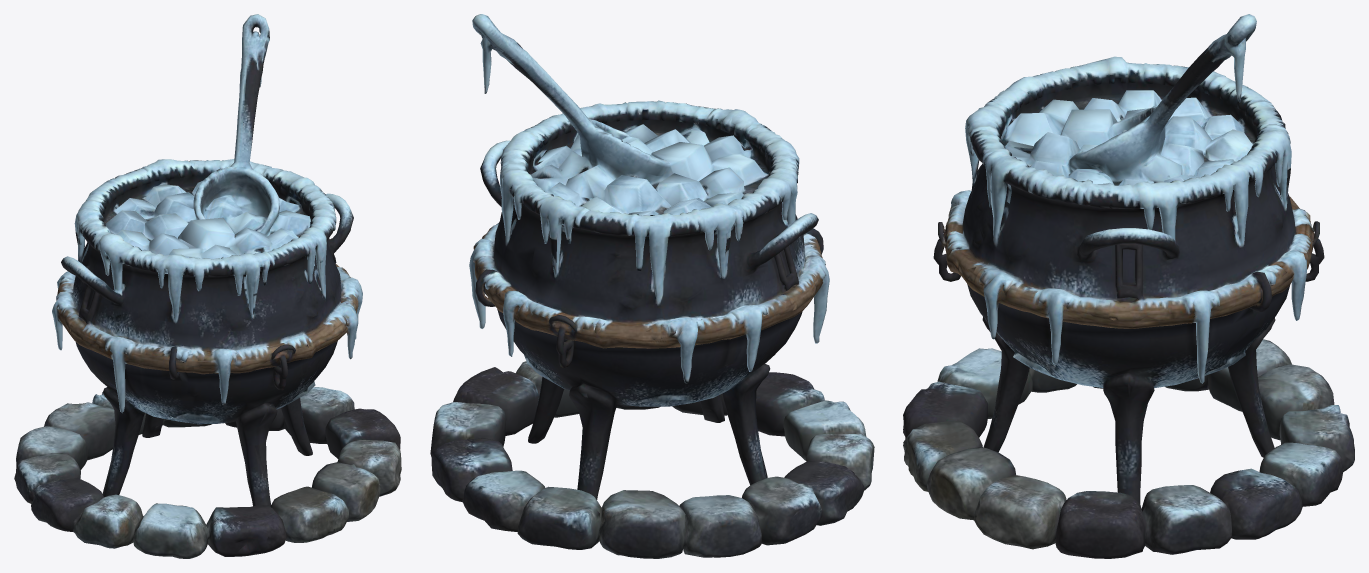
The model's file is lm_fish_kettle.glb.
The picture shows the model from 3 angles, left to right: view 1: azimuth 30°, elevation 25°; view 2: azimuth 150°, elevation 25°; view 3: azimuth 270°, elevation 25°; orthographic projection. The views are drawn at different scales.
Visible parts, largest first — view 1: lm_fish_kettle-convcol; view 2: lm_fish_kettle-convcol; view 3: lm_fish_kettle-convcol.
Part boxes in pixels (x1,y1,x2,y2): lm_fish_kettle-convcol: (14,14,401,558); lm_fish_kettle-convcol: (430,14,874,558); lm_fish_kettle-convcol: (903,14,1354,558).
Bounding box in the file's own units: 1.73 × 2 × 1.62.
1 material, 1 textured.
